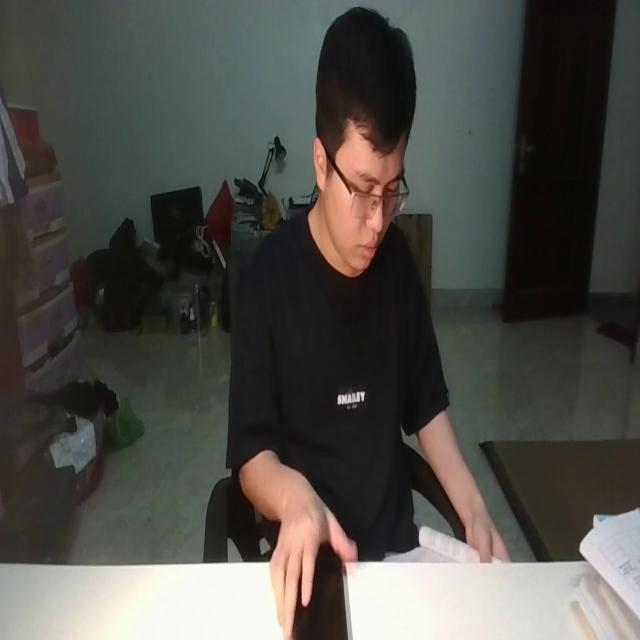phone: (288, 541, 350, 640)
student: (227, 10, 512, 567)
